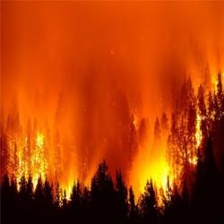fire: (136, 84, 220, 214), (5, 129, 79, 209)
